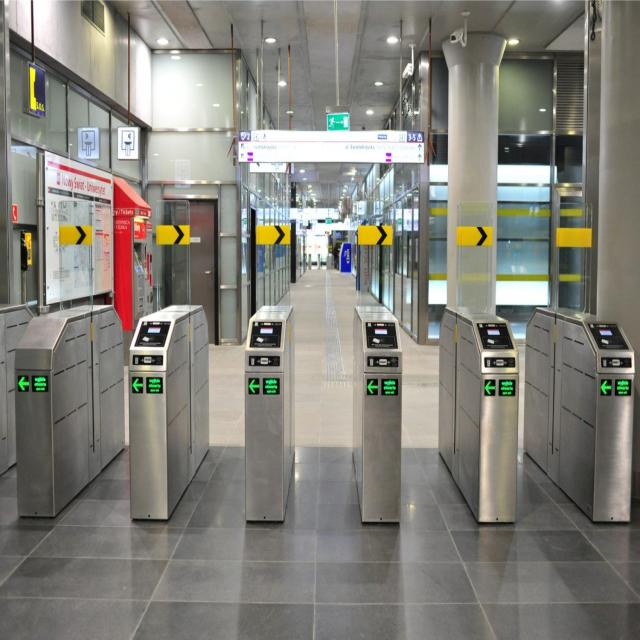torniquete: (554, 308, 635, 521), (15, 310, 92, 517), (454, 308, 519, 522), (129, 306, 192, 518), (245, 304, 295, 520), (352, 306, 402, 522)
